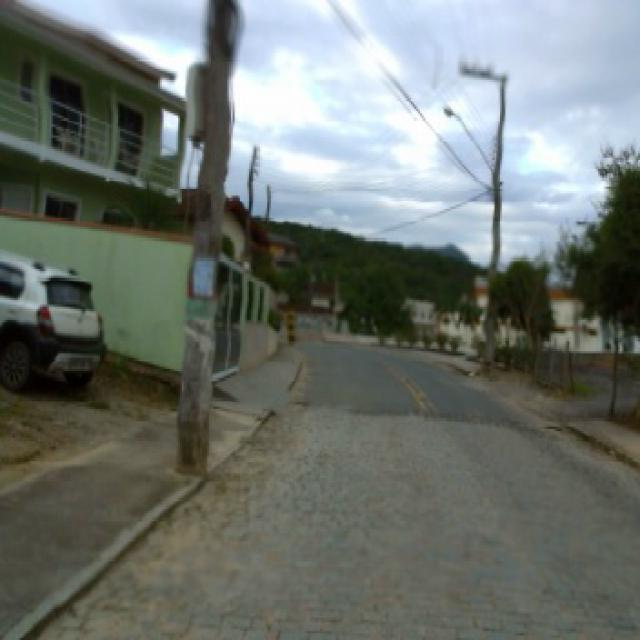Poth-hole: (546, 422, 566, 429), (294, 398, 310, 404), (420, 388, 429, 396)
